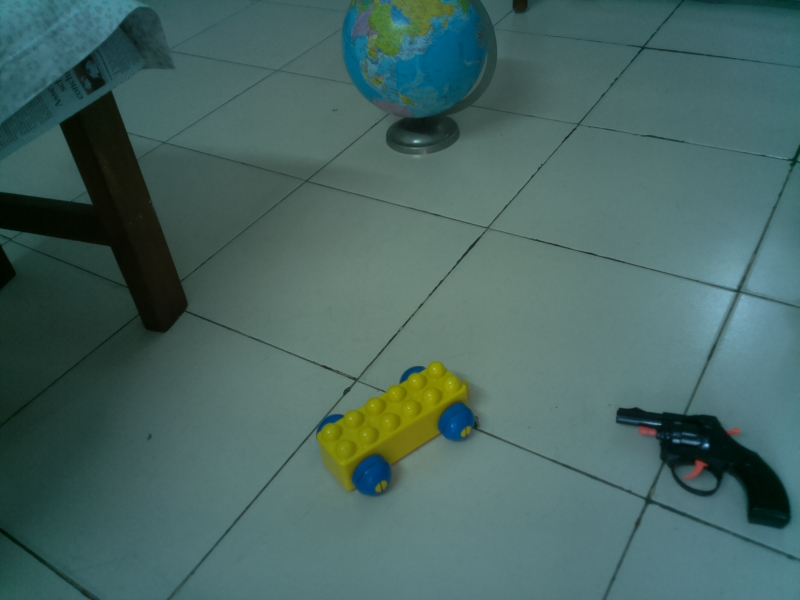Gun: (607, 392, 795, 540)
toy_Car: (309, 359, 483, 502)
